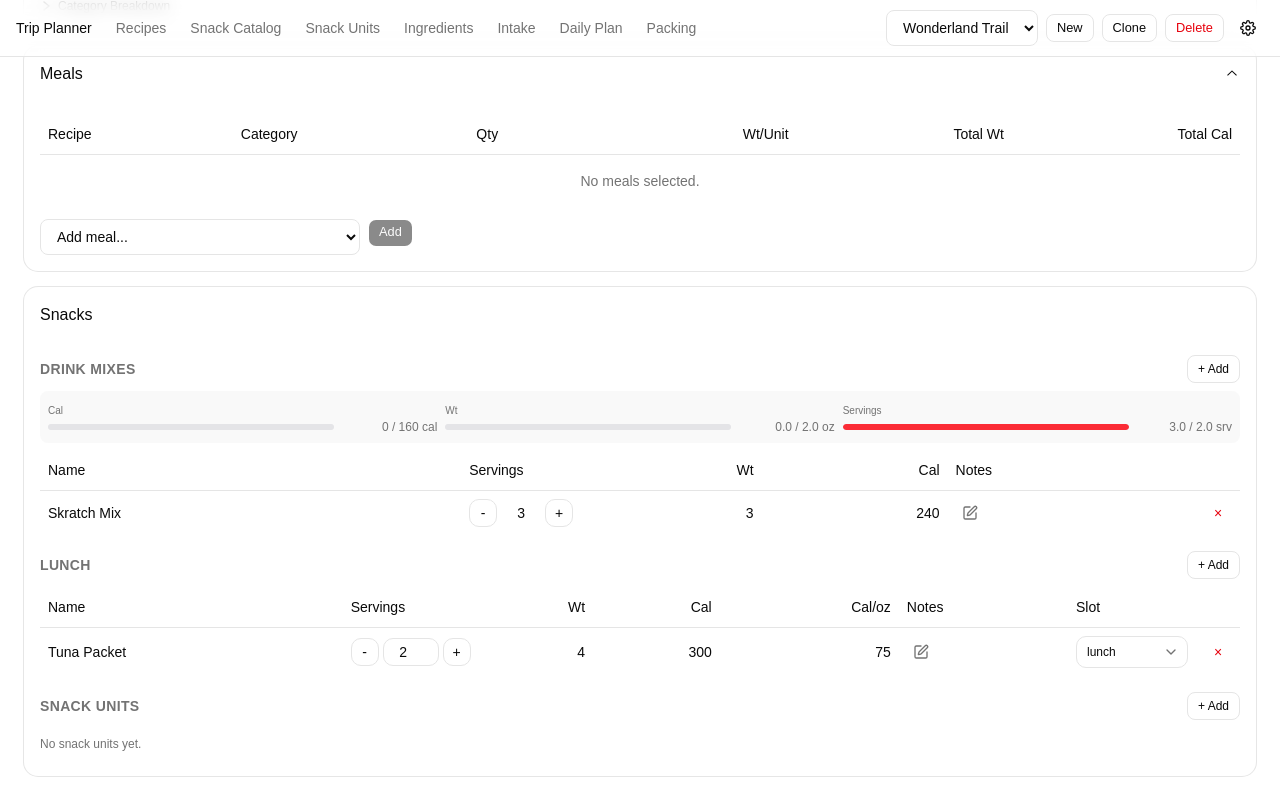
Test: SnackSelection › a failed servings change surfaces a visible error
(page scrolled)
Click the button named "Decrease Tuna Packet servings".
click(365, 652)  # box [351,638,379,666]
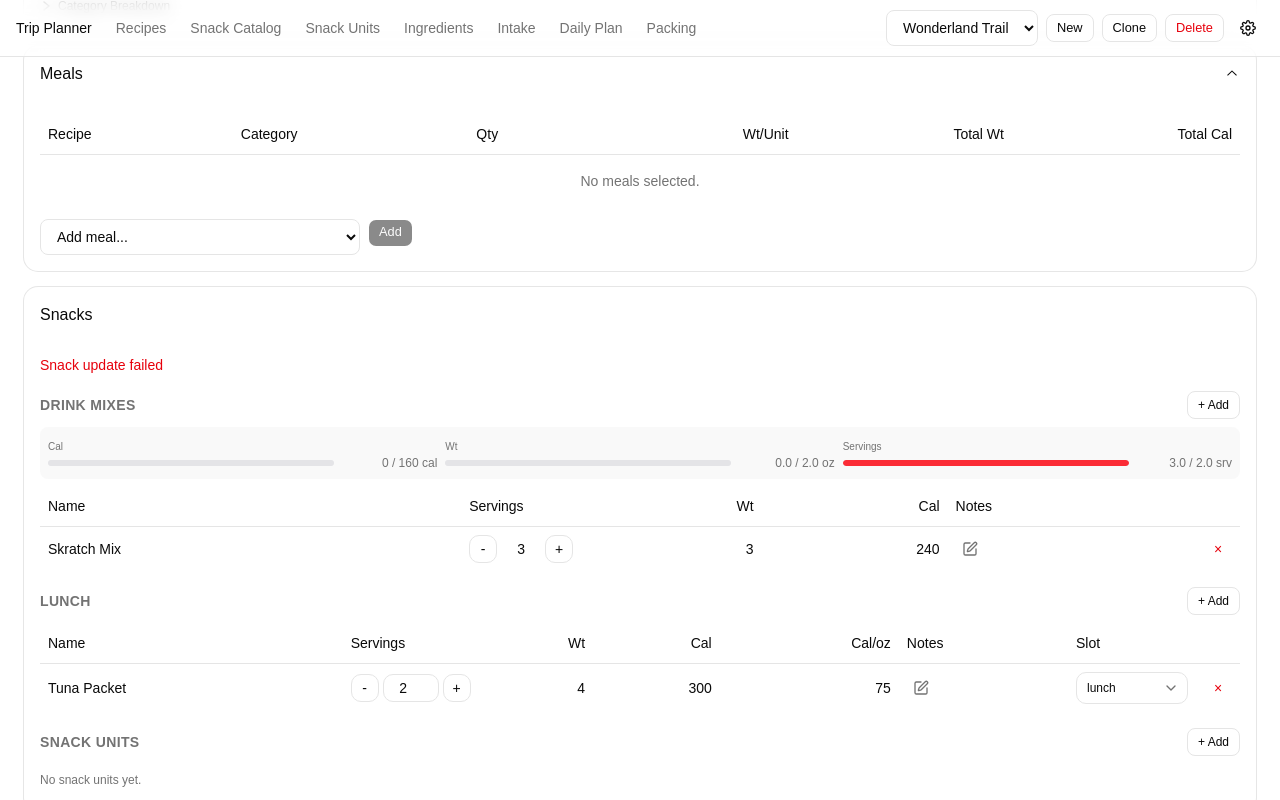
expect the text "Snack update failed" is shown: met, box [40,356,163,372]
